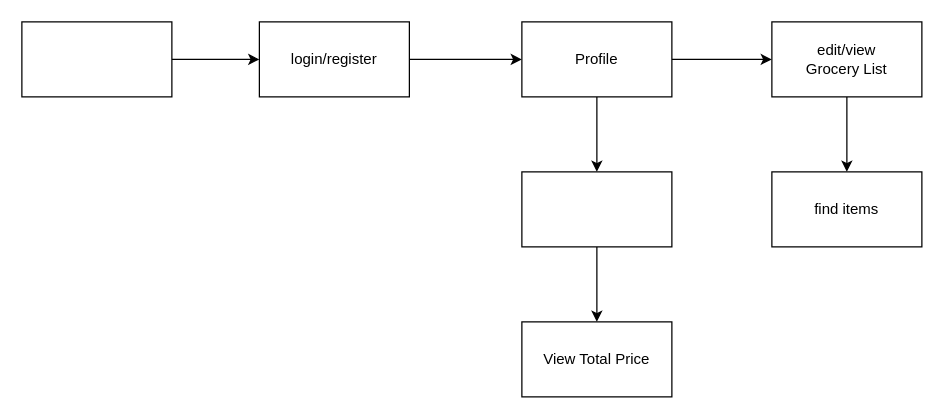
Some shapes in this 944 by 419 pixel diagram are drawn without their labels. The shapes that lost their labels are listed below. From the top down, each one's centre as x and y in pixels, then its label:
At (x=96, y=59): "Home Page".
At (x=596, y=209): "edit location".
